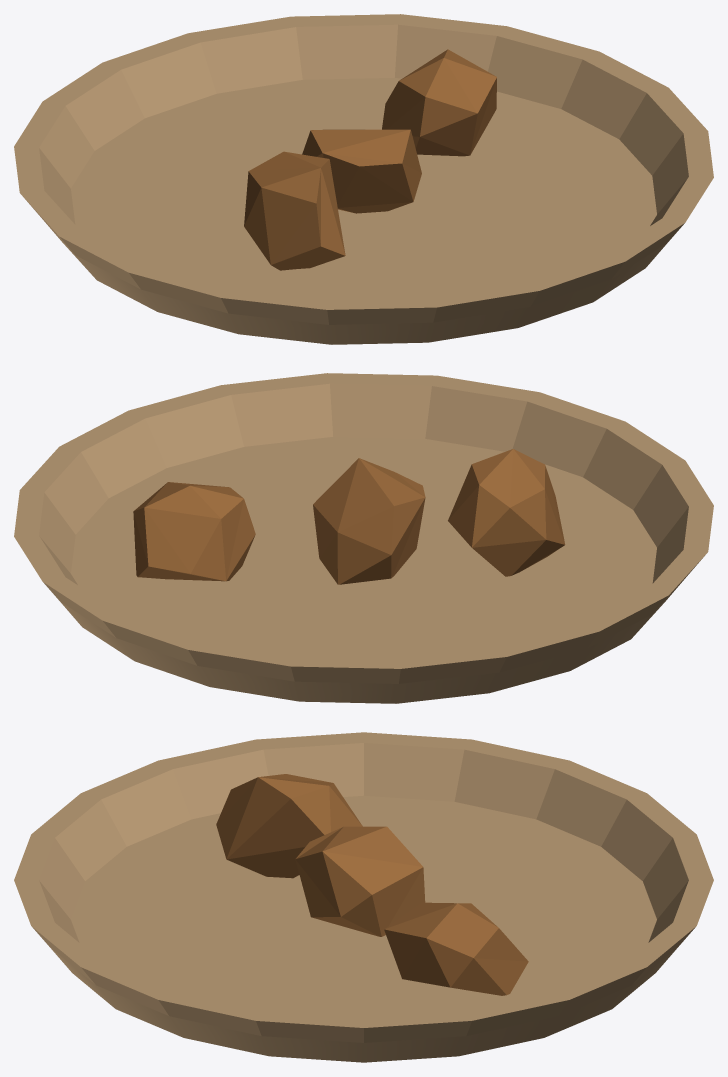
File: Vessel_3.fbx
3 renders of one model, top to bottom at view 1: azimuth 30°, elevation 25°; view 2: azimuth 150°, elevation 25°; view 3: azimuth 270°, elevation 25°, orthographic.
Visible parts, largest first — view 1: Saucer, CopperPieceBig2, CopperPieceBig3, CopperPieceBig1; view 2: Saucer, CopperPieceBig1, CopperPieceBig3, CopperPieceBig2; view 3: Saucer, CopperPieceBig1, CopperPieceBig2, CopperPieceBig3.
Boxes of the visible parts, box(x1,y1,x2,y2) form: Saucer: box(14, 14, 713, 344); CopperPieceBig2: box(244, 151, 345, 270); CopperPieceBig3: box(382, 49, 496, 156); CopperPieceBig1: box(302, 129, 421, 213); Saucer: box(14, 373, 713, 703); CopperPieceBig1: box(313, 458, 425, 584); CopperPieceBig3: box(133, 482, 255, 581); CopperPieceBig2: box(448, 449, 565, 576); Saucer: box(14, 732, 713, 1062); CopperPieceBig1: box(295, 826, 425, 936); CopperPieceBig2: box(216, 774, 362, 878); CopperPieceBig3: box(384, 902, 528, 995).
Size of the model in its own units: 21.13 by 3.64 by 21.13.
